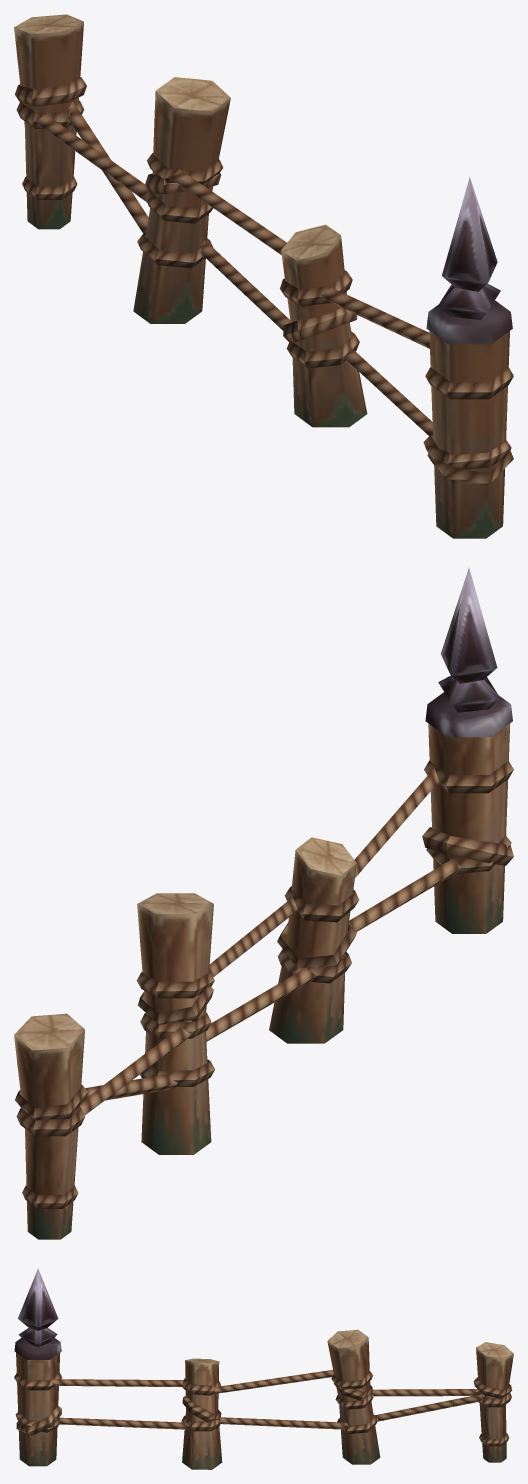
File: GM_fence_01.FBX
3 views of the same model, one above another, from view 1: azimuth 30°, elevation 25°; view 2: azimuth 150°, elevation 25°; view 3: azimuth 270°, elevation 25° (orthographic). The views are drawn at different scales.
Visible parts, largest first — view 1: GM_fence_01; view 2: GM_fence_01; view 3: GM_fence_01.
Boxes of the visible parts, x1,y1,x2,y2 form: GM_fence_01: (14, 14, 513, 538); GM_fence_01: (14, 568, 513, 1239); GM_fence_01: (14, 1268, 513, 1469).
Size of the model in its own units: 0.4387 by 2 by 4.74.
